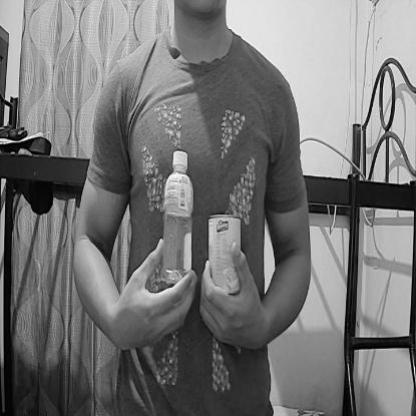Plastic Bottle: (158, 139, 205, 287)
